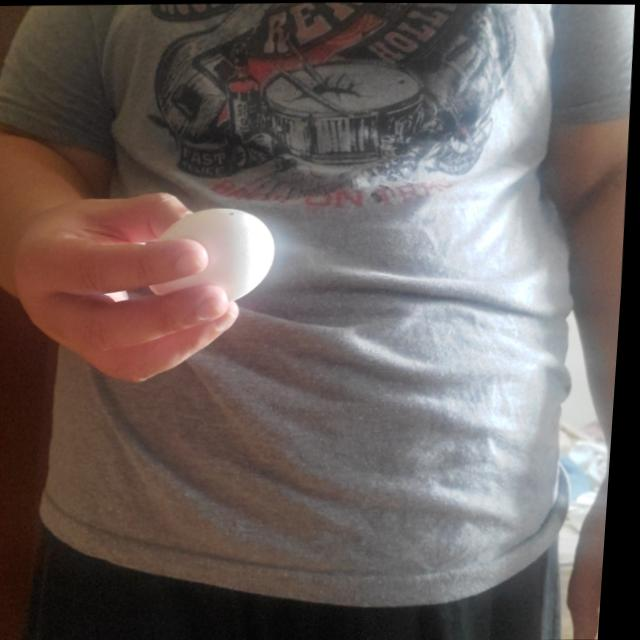egg: (146, 207, 285, 303)
